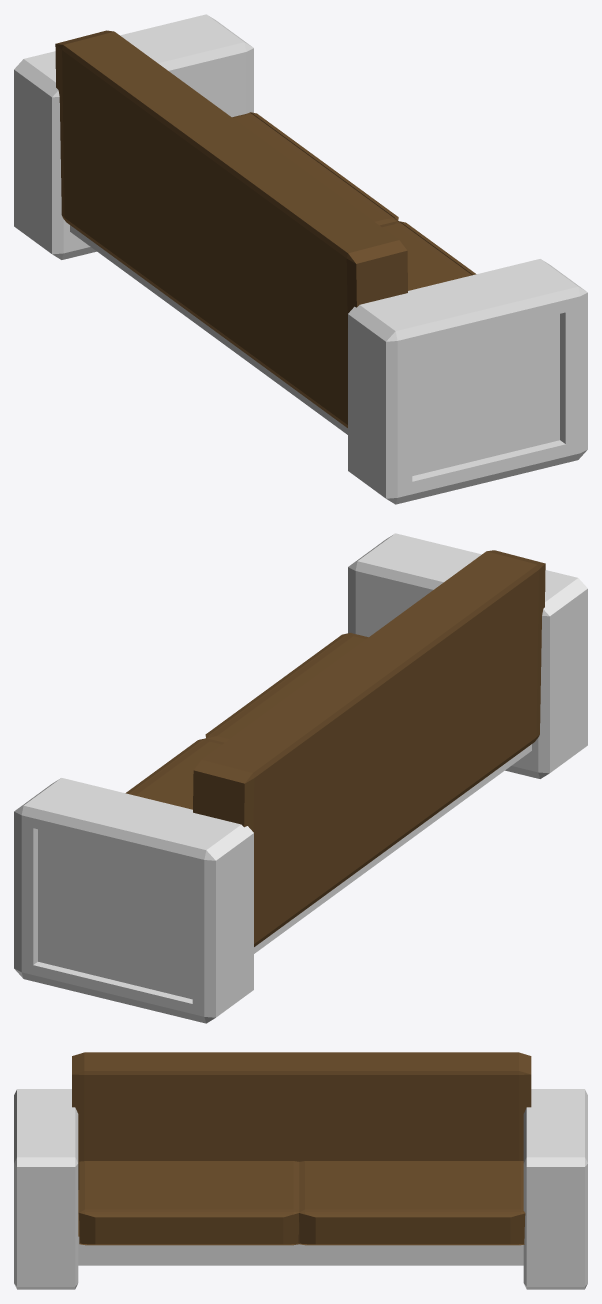
The model's file is sofa.fbx.
3 renders of one model, top to bottom at view 1: azimuth 30°, elevation 25°; view 2: azimuth 150°, elevation 25°; view 3: azimuth 270°, elevation 25°, orthographic. The views are drawn at different scales.
Parts seen in each view (by area): view 1: Cube.004; view 2: Cube.004; view 3: Cube.004.
Boxes of the visible parts, x1,y1,x2,y2 form: Cube.004: [14, 14, 587, 504]; Cube.004: [14, 533, 587, 1023]; Cube.004: [14, 1052, 587, 1289].
Bounding box in the file's own units: 244 × 254 × 786.
